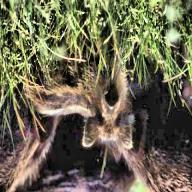boar: (21, 43, 177, 146), (120, 81, 192, 191), (0, 106, 55, 192)
